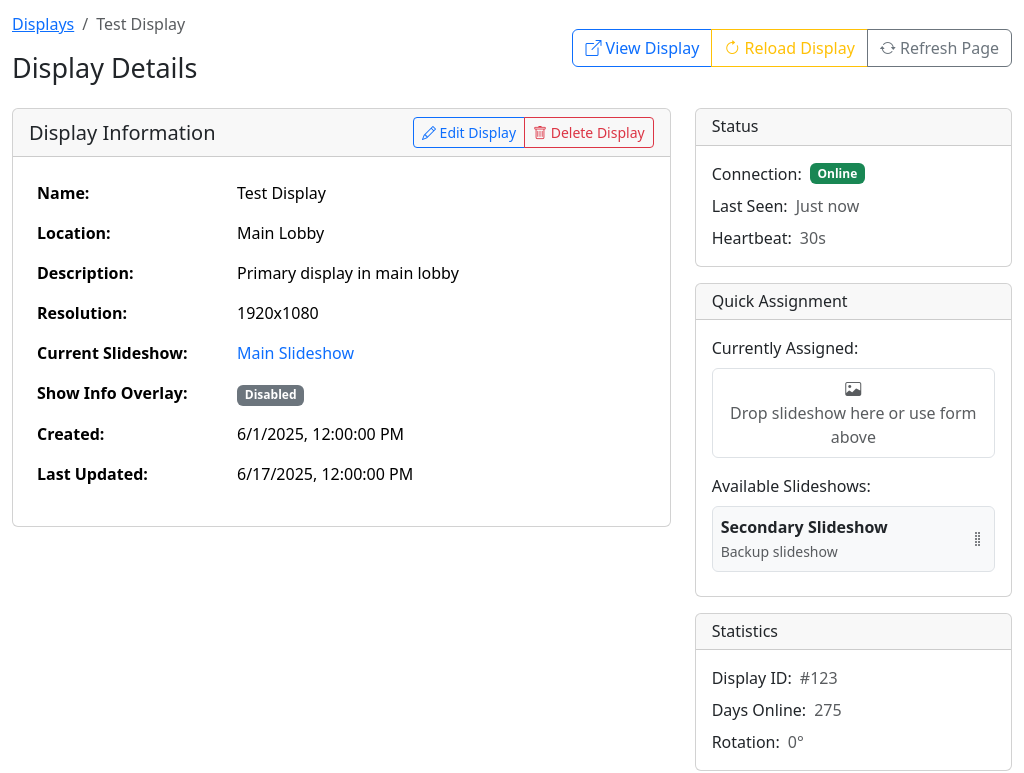
Scenario: DisplayDetail › saves display changes successfully
Note: Enter edit mode
Click the button "Edit Display": (469, 133) [413,117,525,148]
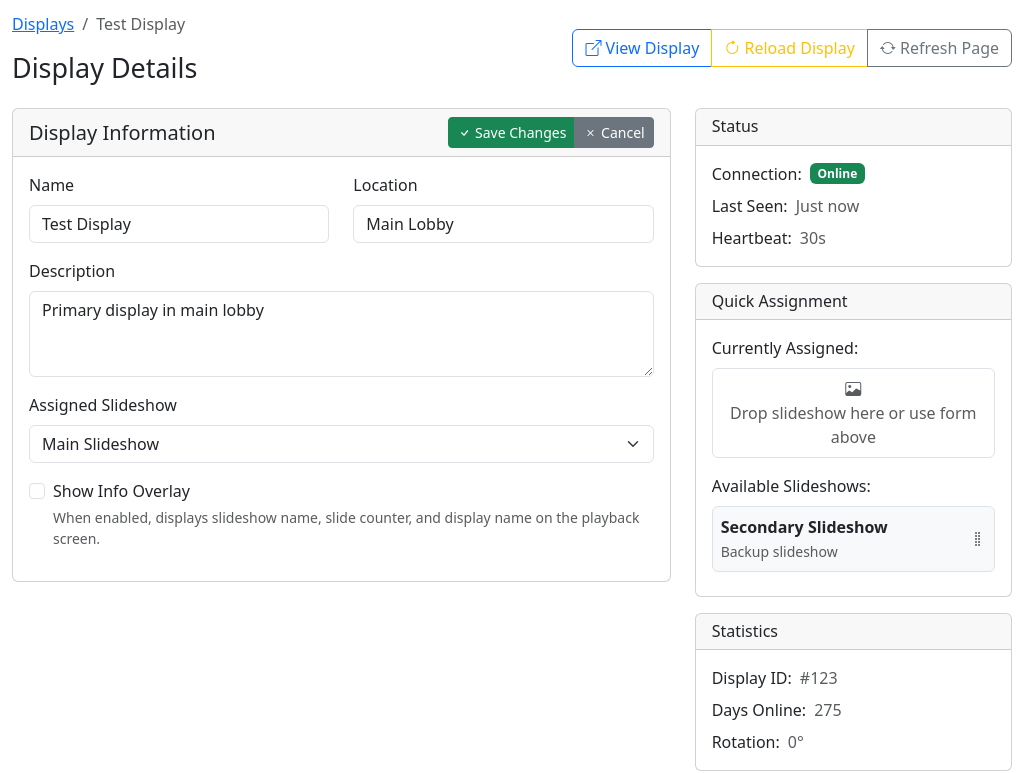
Note: Change display name
Replace the text in the field showing "Test Display" with "Updated Display": (179, 224) [29,205,329,243]
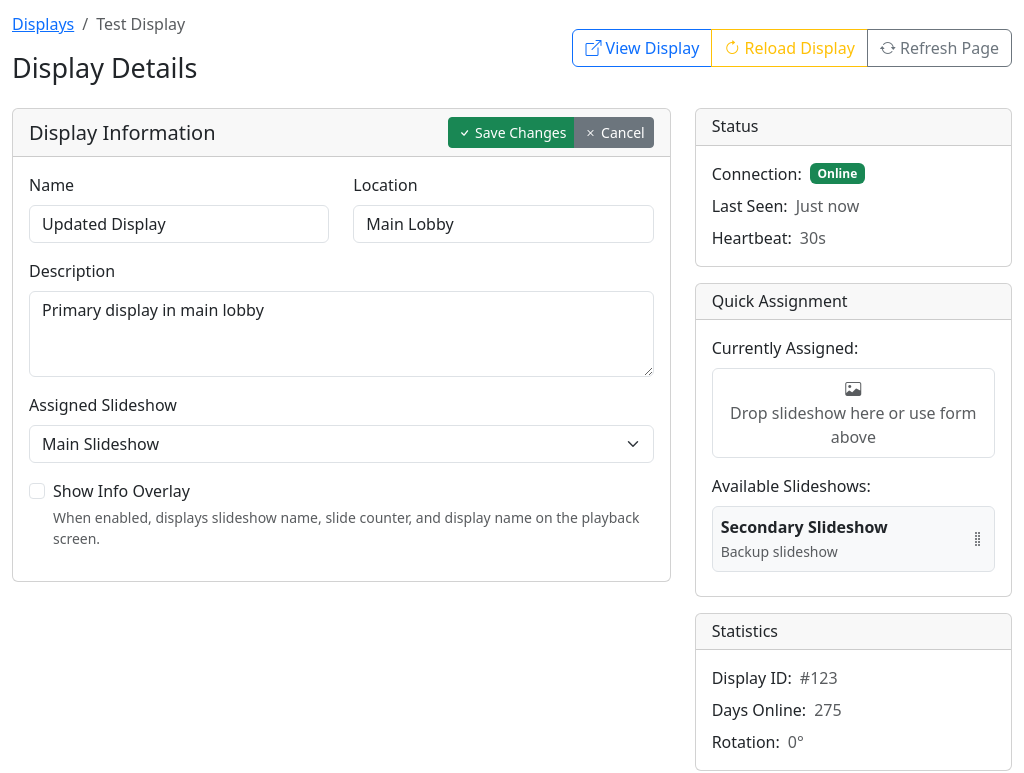
Note: Save changes
Click the button "Save Changes": (512, 133) [448,117,575,148]
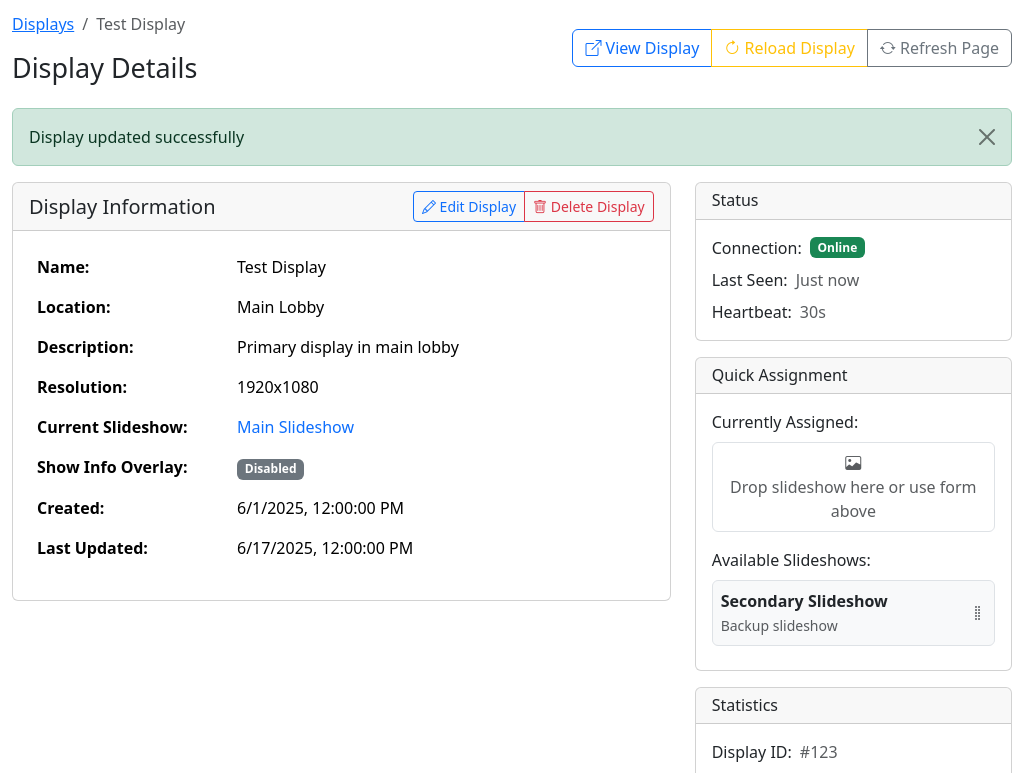
Expected: the text "Display updated successfully" is shown, [12,108,1012,166]
